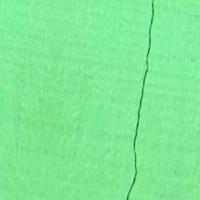crack: (97, 0, 173, 199)
